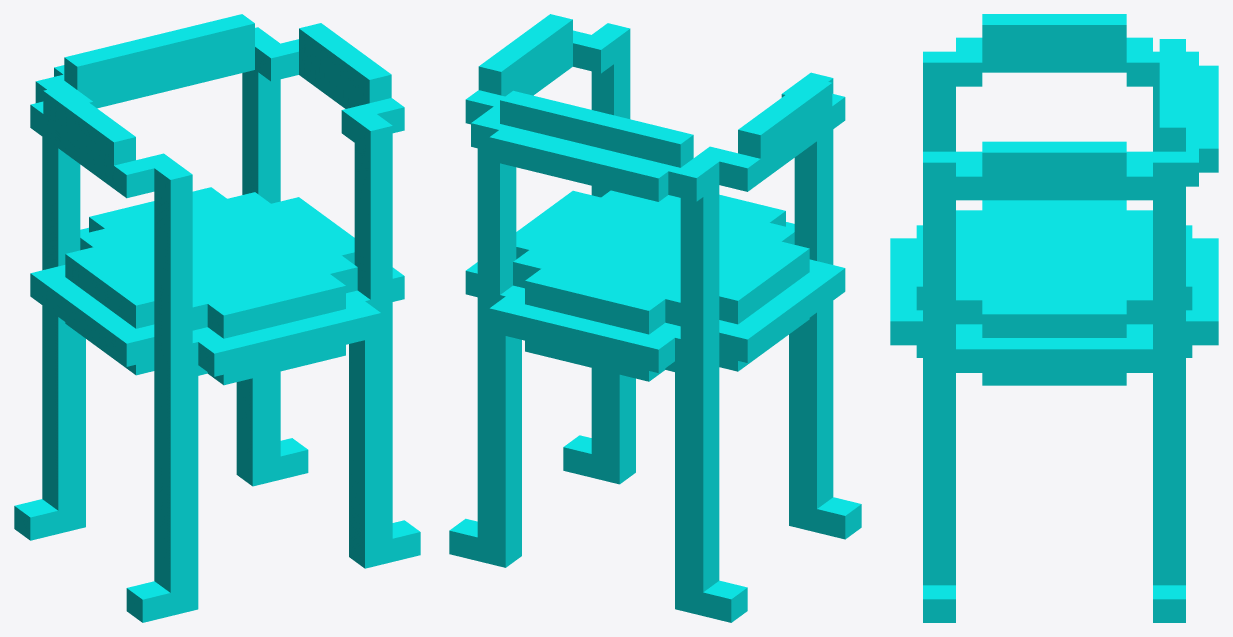
File: Brepciano.glb
3 views of the same model, side by side, from view 1: azimuth 30°, elevation 25°; view 2: azimuth 150°, elevation 25°; view 3: azimuth 270°, elevation 25° (orthographic). The views are drawn at different scales.
Parts seen in each view (by area): view 1: Brep; view 2: Brep; view 3: Brep.
Boxes of the visible parts, left/top/right/bottom form: Brep: left=14, top=14, right=420, bottom=622; Brep: left=449, top=14, right=861, bottom=622; Brep: left=890, top=14, right=1218, bottom=622.
Bounding box in the file's own units: 0.4938 × 0.7802 × 0.4938.
